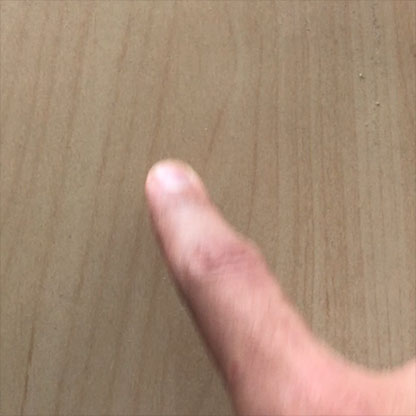fingertip: (141, 145, 212, 203)
